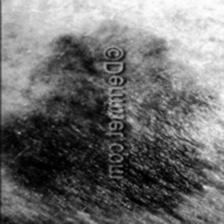Potentially Malignant Skin Tumors: (118, 24, 224, 204), (6, 30, 104, 202)
